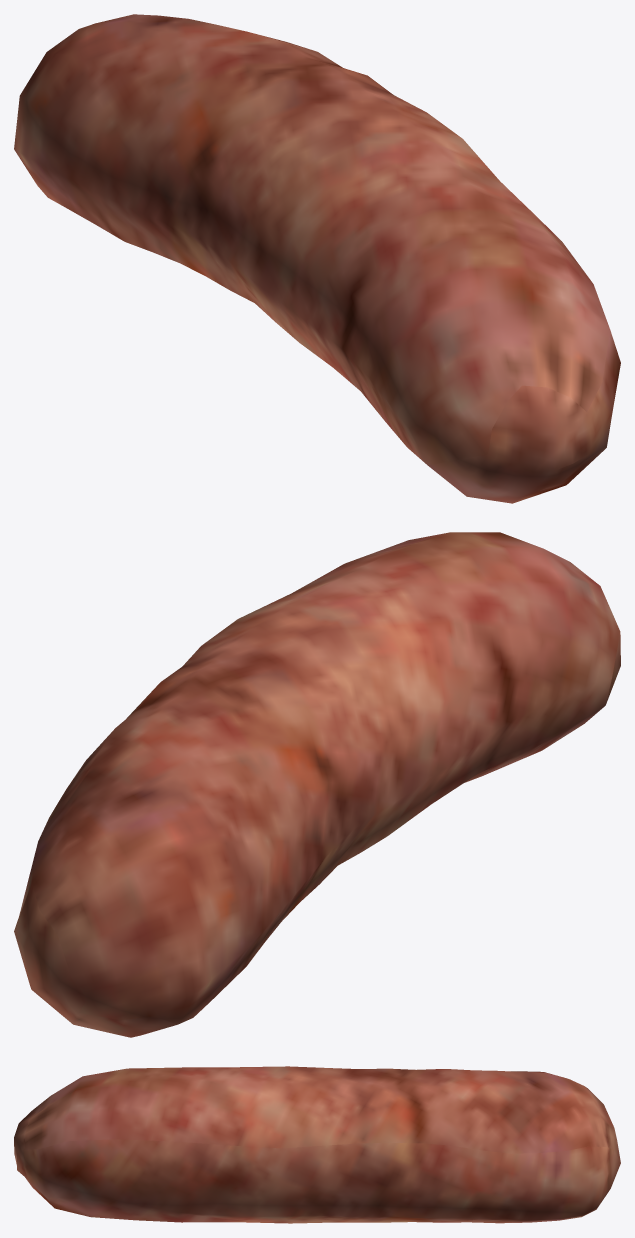
Rendered from ref_bbqsausage.glb.
The picture shows the model from 3 angles, top to bottom: view 1: azimuth 30°, elevation 25°; view 2: azimuth 150°, elevation 25°; view 3: azimuth 270°, elevation 25°; orthographic projection. The views are drawn at different scales.
Visible parts, largest first — view 1: ref_bbqsausage_part0; view 2: ref_bbqsausage_part0; view 3: ref_bbqsausage_part0.
Boxes of the visible parts, <box> form: ref_bbqsausage_part0: <box>14,14,620,503</box>; ref_bbqsausage_part0: <box>14,532,620,1037</box>; ref_bbqsausage_part0: <box>14,1066,620,1223</box>.
Bounding box in the file's own units: 0.2987 × 0.2701 × 1.
Materials: 1 (1 with a texture image).
